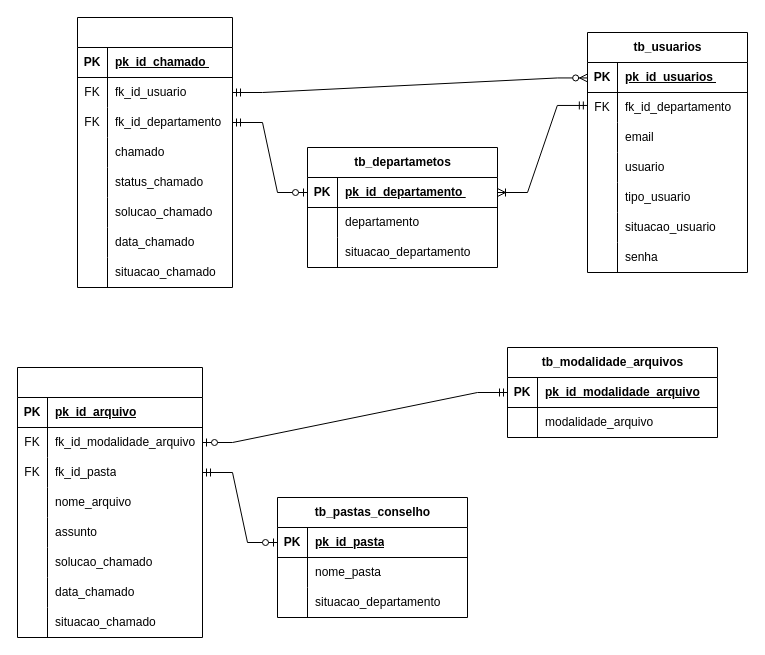
Image size: 765x655. Some labels were removed from this diagram. Each missing label, with the box of its shape:
tb_arquivos_conselho: (16, 366, 202, 638)
tb_chamados: (76, 16, 232, 288)
